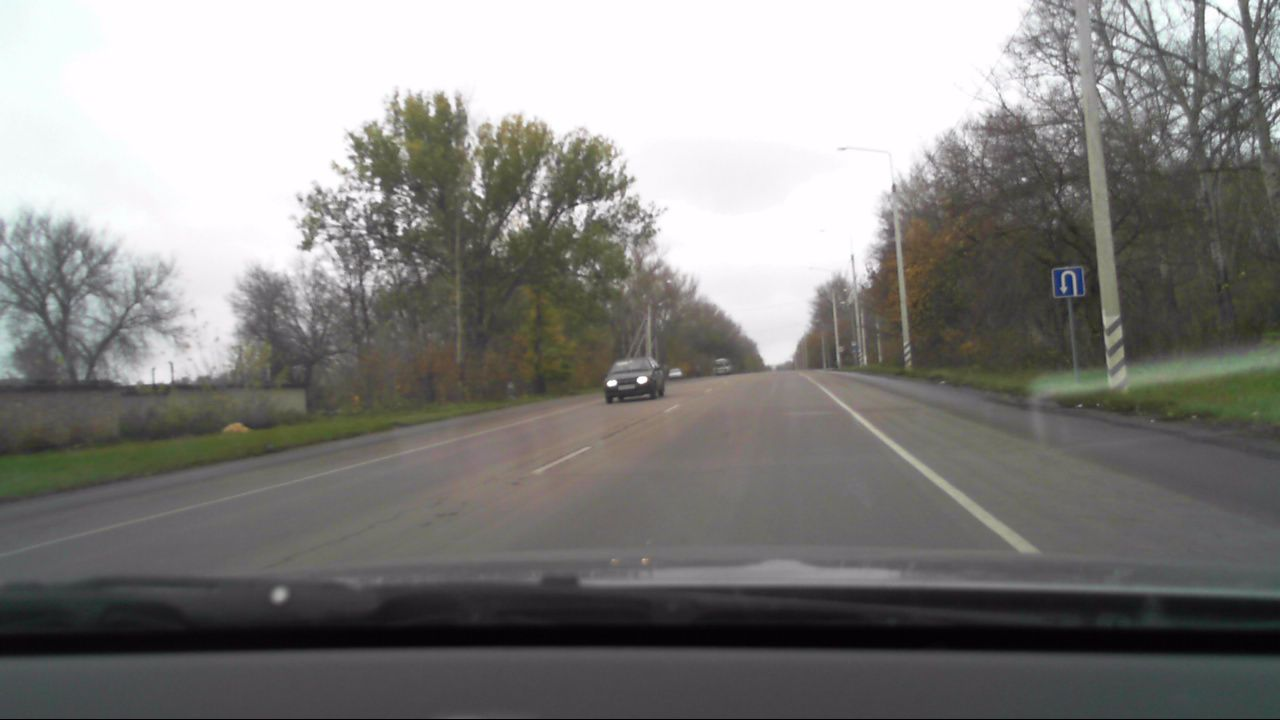U-turn: (1053, 268, 1084, 297)
